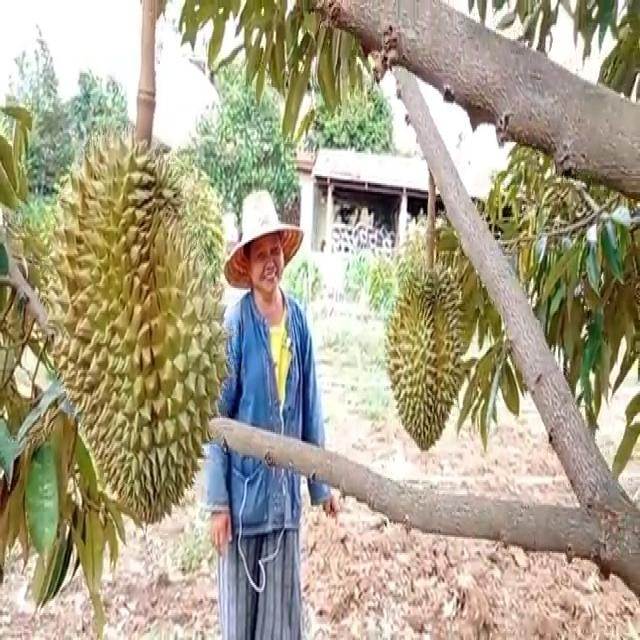durian: (50, 119, 235, 535), (376, 251, 468, 457)
